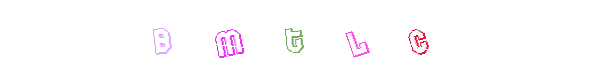B: (215, 0, 295, 80)
C: (379, 0, 459, 80)
L: (267, 0, 347, 80)
M: (234, 0, 314, 80)
T: (255, 0, 335, 80)
